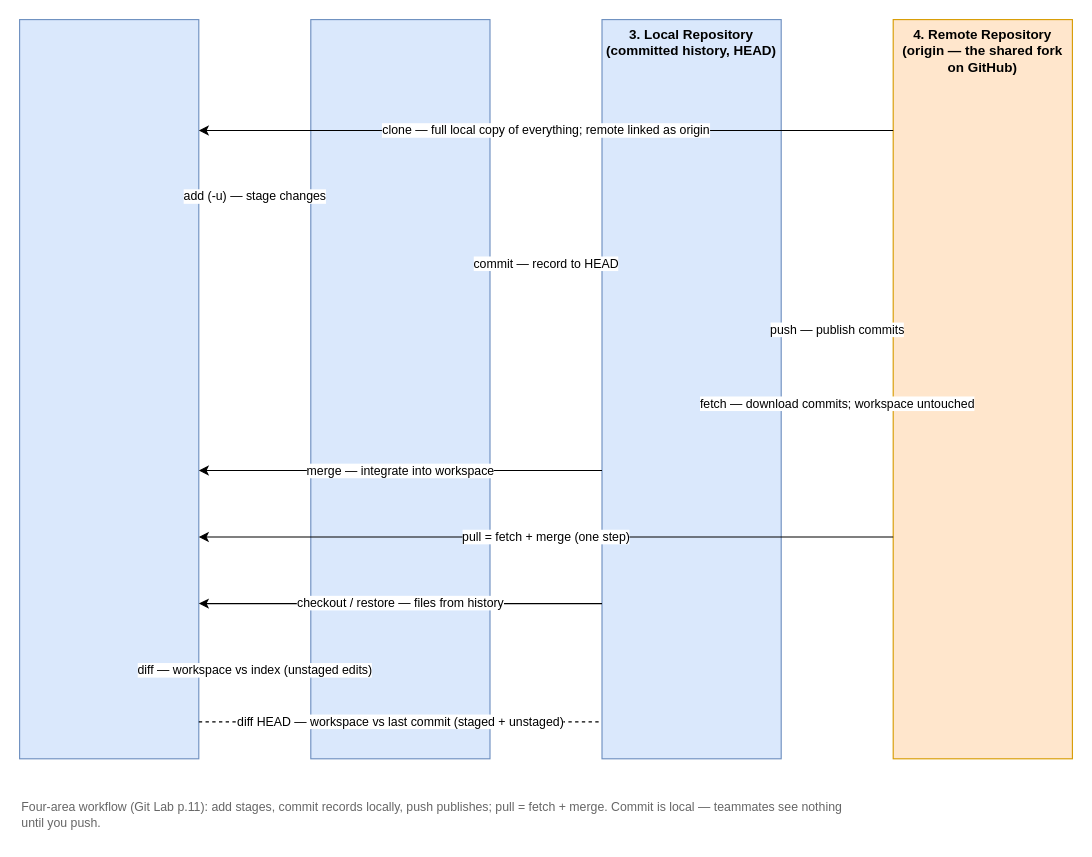
This 1092x857 diagram has some shape labels left out. Each missing label, with the box of its shape:
1. Workspace (working dir — your editable files): (18, 18, 199, 759)
2. Index / stage (what the next commit will contain): (310, 18, 490, 759)
